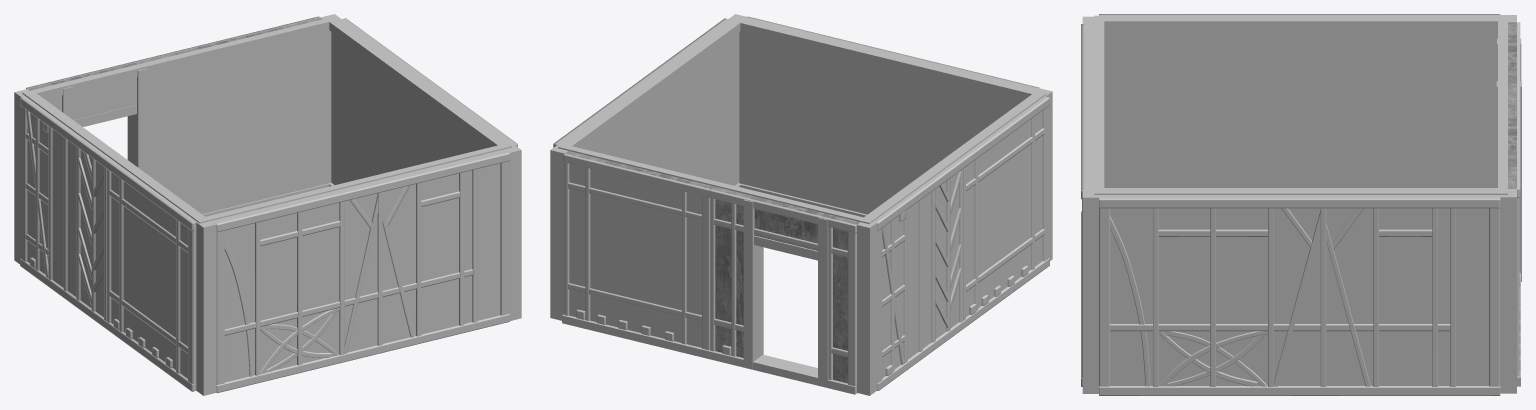
File: SM_House1stFloor02.FBX
3 renders of one model, left to right at view 1: azimuth 30°, elevation 25°; view 2: azimuth 150°, elevation 25°; view 3: azimuth 270°, elevation 25°, orthographic. The views are drawn at different scales.
Parts seen in each view (by area): view 1: SM_House1stFloor02; view 2: SM_House1stFloor02; view 3: SM_House1stFloor02.
Boxes of the visible parts, x1,y1,x2,y2 form: SM_House1stFloor02: (14, 14, 521, 395); SM_House1stFloor02: (550, 14, 1052, 395); SM_House1stFloor02: (1081, 14, 1521, 395).
Size of the model in its own units: 600 by 602 by 300.
